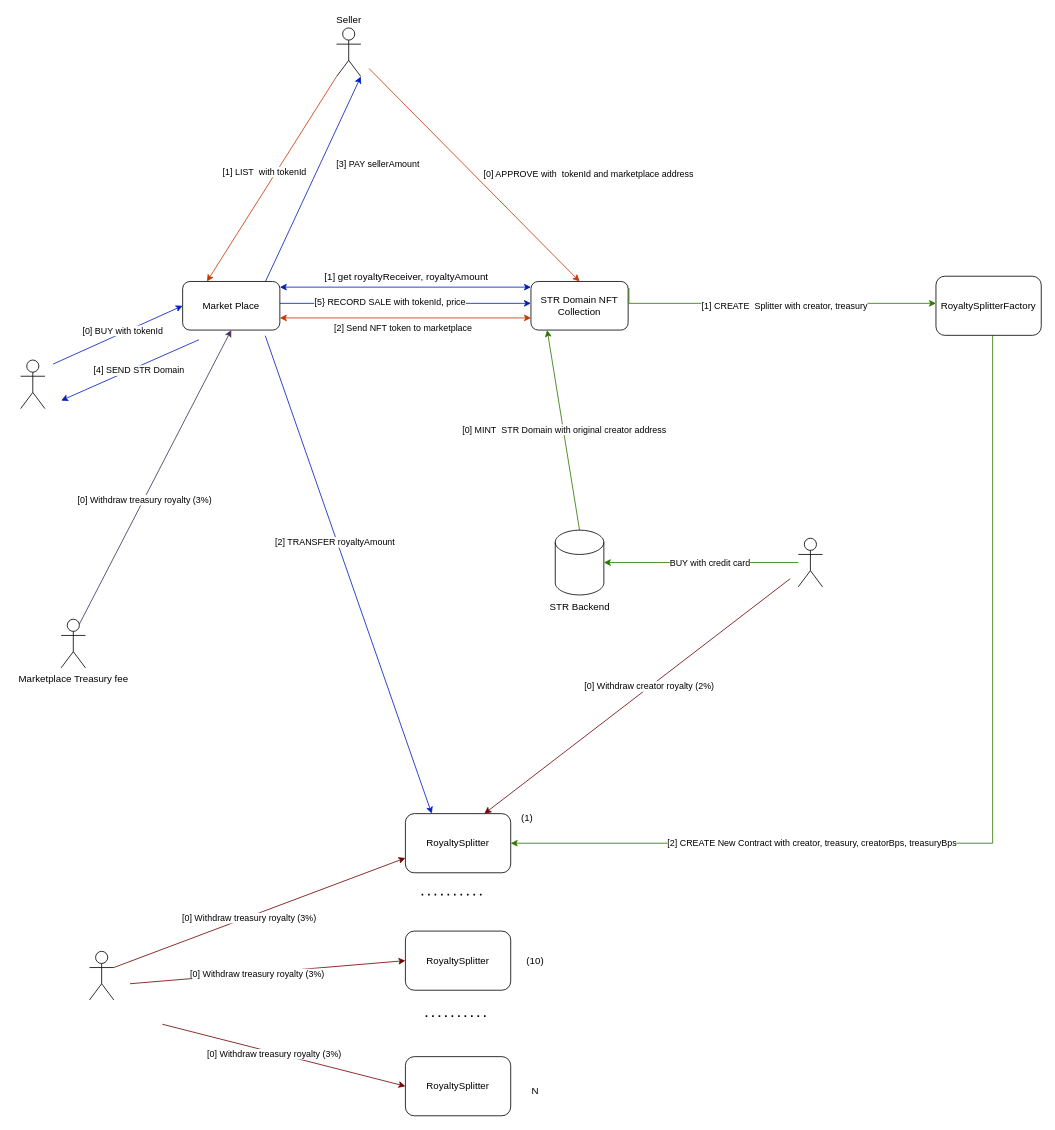
The diagram is 1055 pixels wide and 1130 high, and some of its shapes have lost their labels. Each missing label, with the centre of its shape:
Buyer: point 32,384
Minter: point 579,562
Original Creator (Vendor): point 810,562
STR Domains Collection Treasury Wallet: point 101,975
